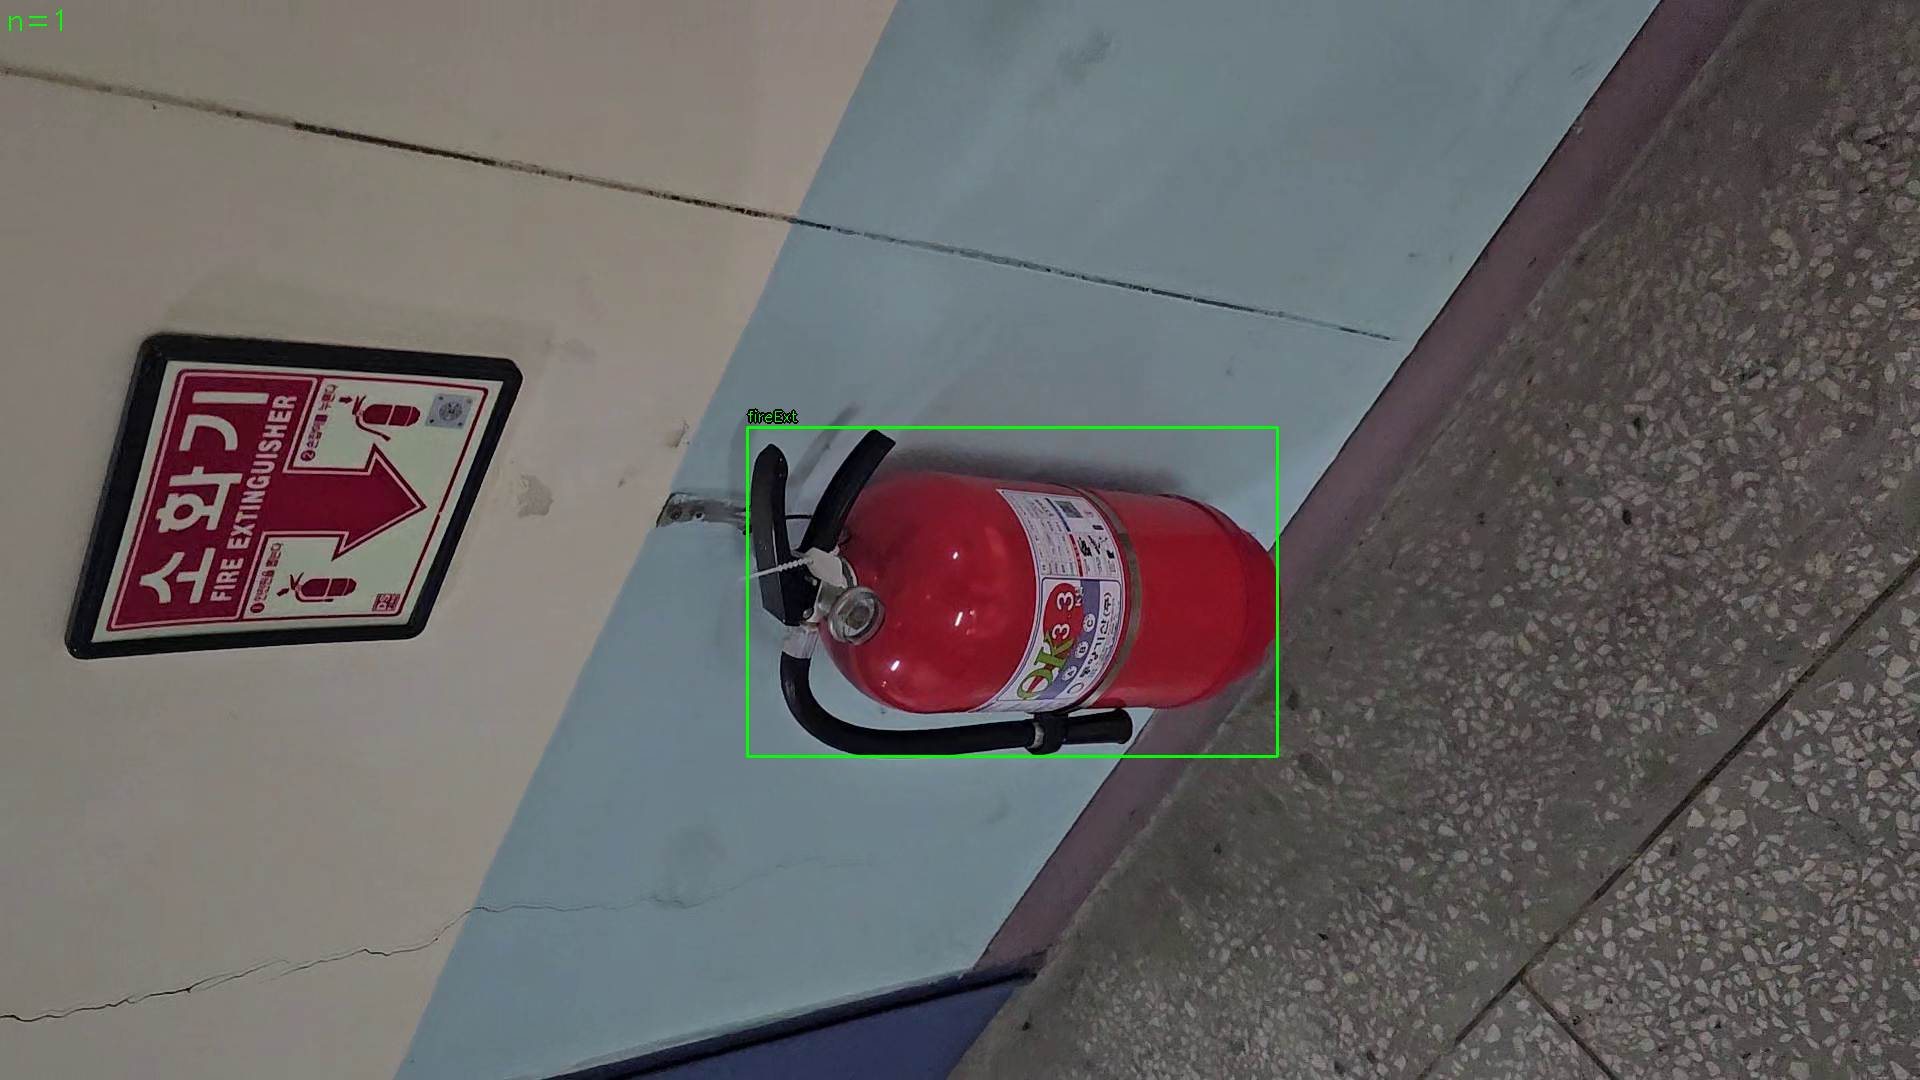lane: (746, 427, 1278, 757)
